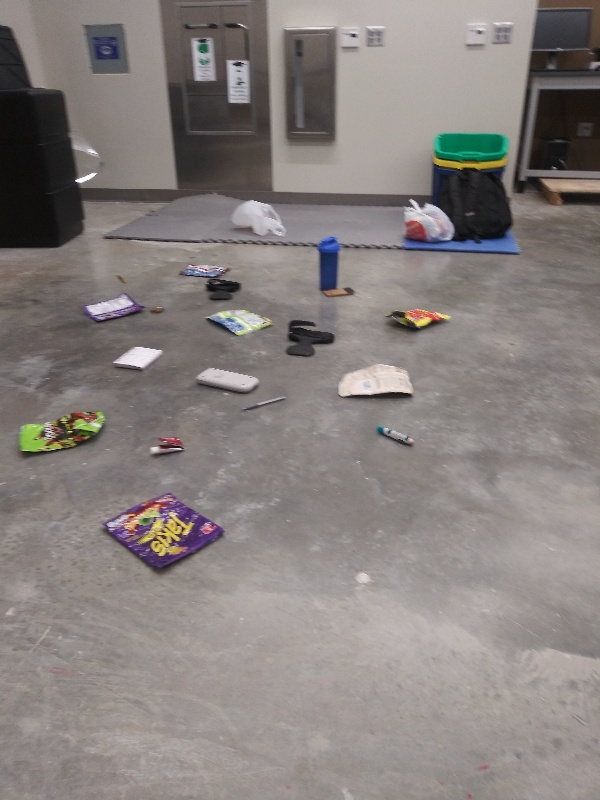bag: (99, 487, 227, 581), (13, 406, 110, 460), (334, 361, 419, 399), (200, 306, 278, 337), (80, 290, 145, 326), (383, 304, 455, 333), (177, 260, 234, 280)
